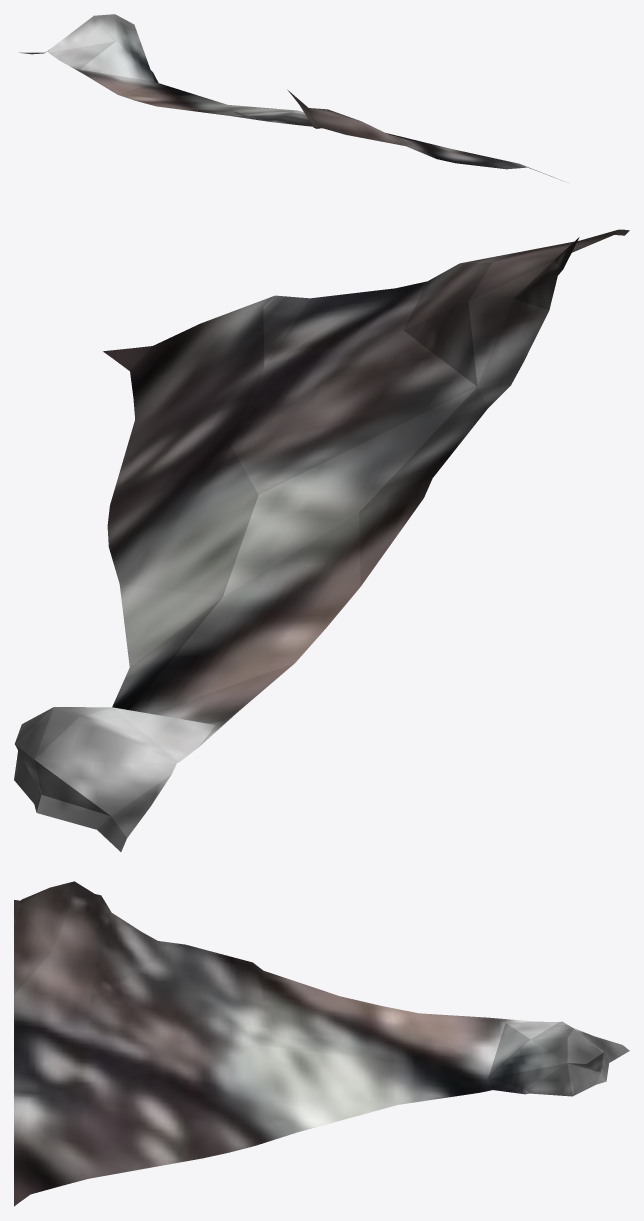
The picture shows the model from 3 angles, top to bottom: view 1: azimuth 30°, elevation 25°; view 2: azimuth 150°, elevation 25°; view 3: azimuth 270°, elevation 25°; orthographic projection. The views are drawn at different scales.
Size of the model in its own units: 0.3875 by 0.1967 by 0.6475.
Materials: 1 (1 with a texture image).
